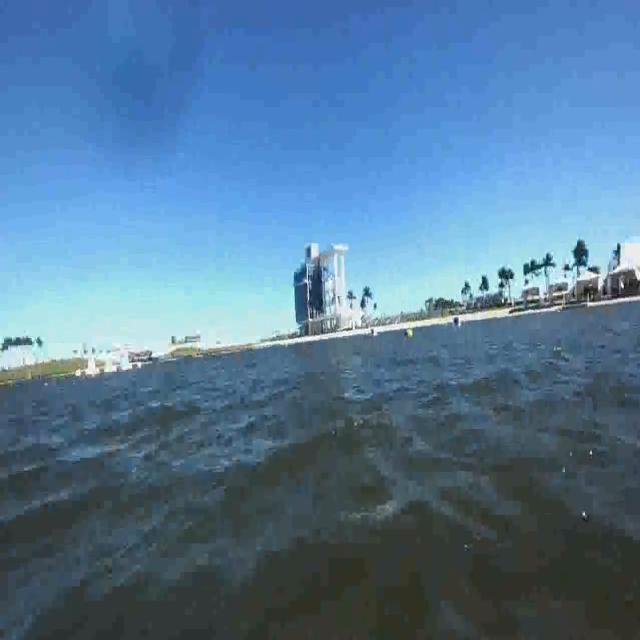yellow-buoy: (408, 328, 415, 339)
